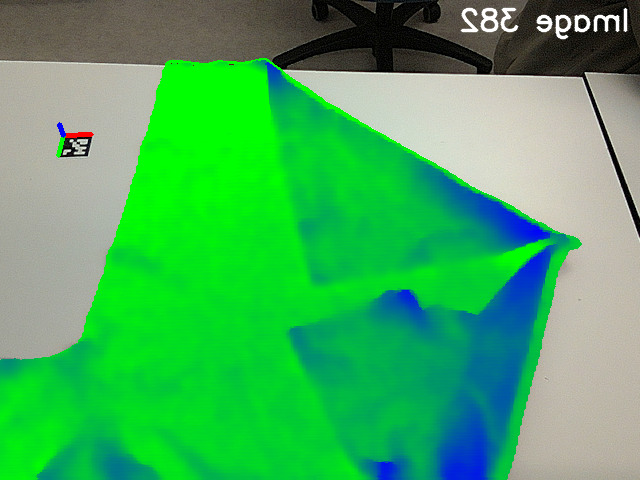V: (267, 303, 334, 366), (291, 242, 363, 292)
